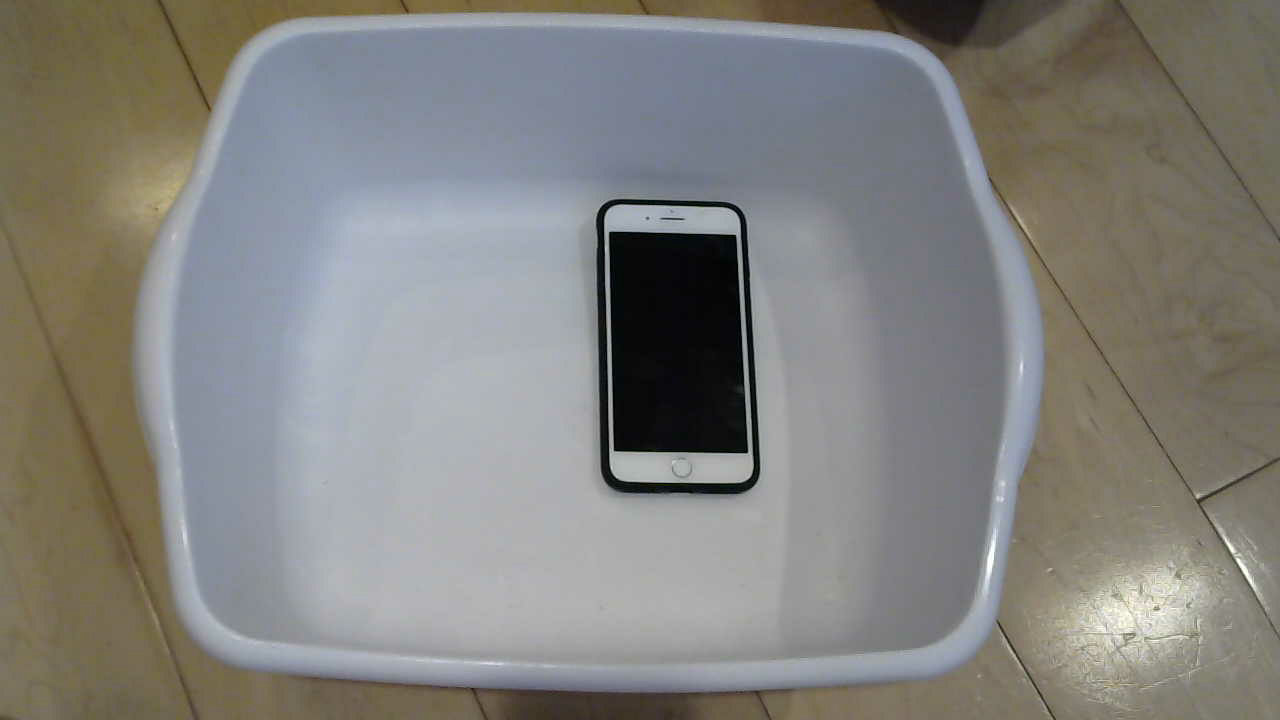phone: (580, 184, 787, 517)
